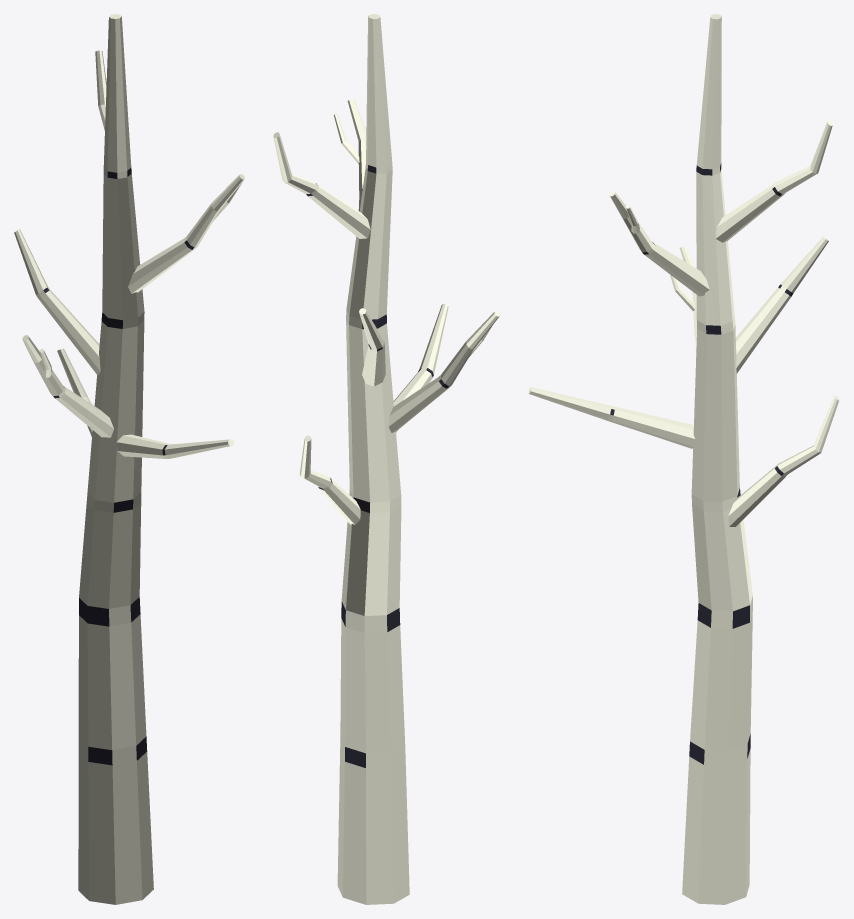
File: Birch2_winter.FBX
3 views of the same model, side by side, from view 1: azimuth 30°, elevation 25°; view 2: azimuth 150°, elevation 25°; view 3: azimuth 270°, elevation 25° (orthographic).
Parts seen in each view (by area): view 1: Berezka1.002; view 2: Berezka1.002; view 3: Berezka1.002.
Boxes of the visible parts, x1,y1,x2,y2 form: Berezka1.002: (14, 14, 244, 904); Berezka1.002: (273, 14, 499, 904); Berezka1.002: (528, 14, 839, 904).
Size of the model in its own units: 1.51 by 6.52 by 2.11.
